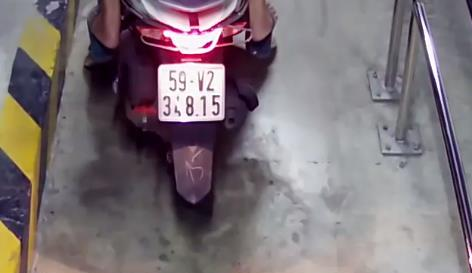lisence: (156, 64, 226, 121)
